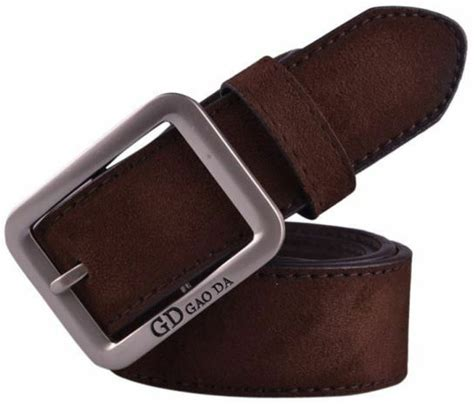cuero: (33, 7, 467, 393)
